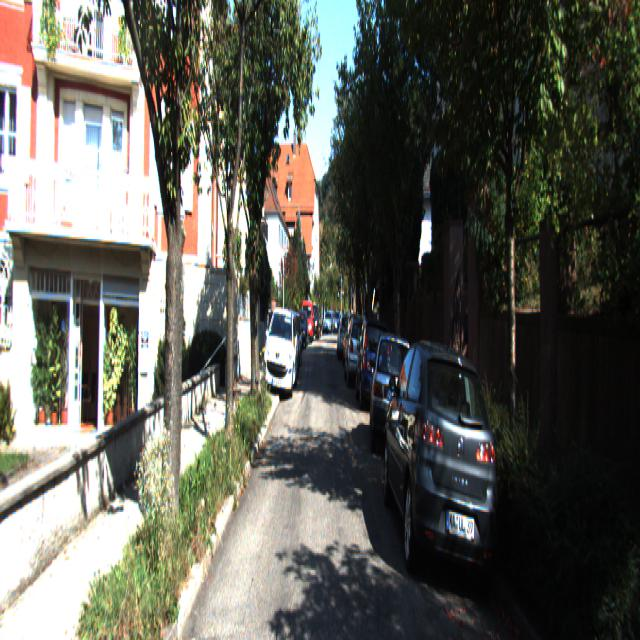Car: (381, 329, 505, 626), (369, 326, 416, 471), (355, 310, 392, 414), (263, 304, 299, 401), (344, 312, 374, 392), (336, 310, 355, 361), (300, 300, 314, 346)
